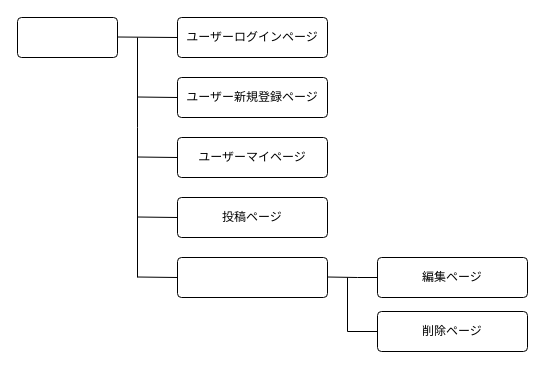
This 545x369 diagram has some shape labels left out. The shapes that lost their labels are listed below. From the top down, each one's box as (x1, y1, x2, y2) in pixels, then its label:
(16, 16, 118, 58): 一覧ページ
(176, 256, 328, 298): 詳細ページ
